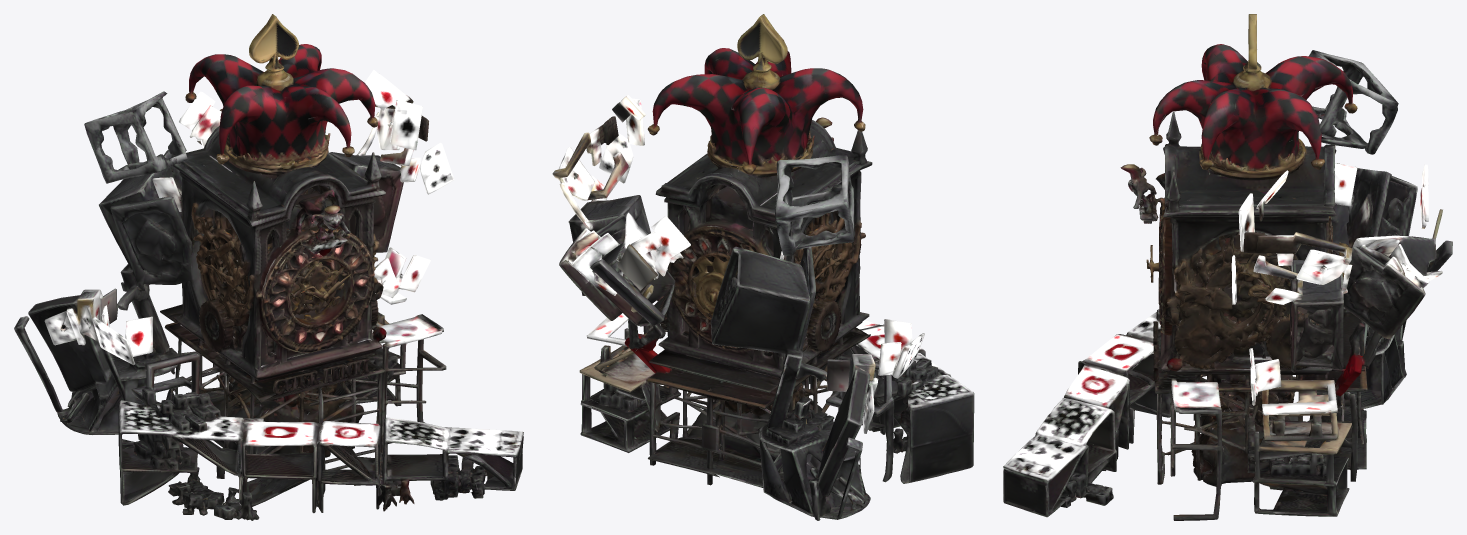
Rendered from Meshy_AI_Jester_Clock_Tower_0515174056_texture.fbx.
The picture shows the model from 3 angles, left to right: view 1: azimuth 30°, elevation 25°; view 2: azimuth 150°, elevation 25°; view 3: azimuth 270°, elevation 25°; orthographic projection. The views are drawn at different scales.
Visible parts, largest first — view 1: Mesh_0; view 2: Mesh_0; view 3: Mesh_0.
Part boxes in pixels (<box>): Mesh_0: <box>14,14,523,520</box>; Mesh_0: <box>552,14,974,520</box>; Mesh_0: <box>1003,14,1452,520</box>.
Size of the model in its own units: 165 by 191 by 177.
1 material, 1 textured.
